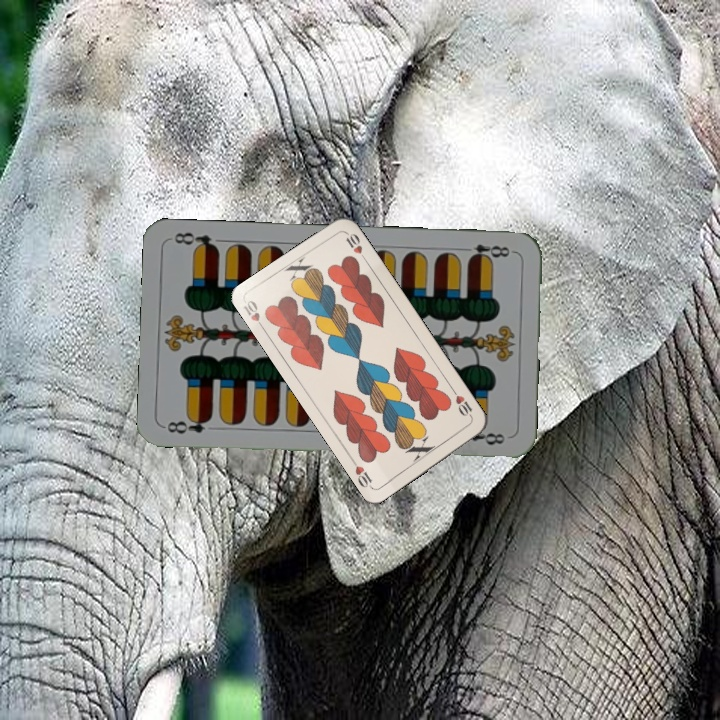E8: (458, 240, 517, 264), (163, 412, 215, 436)
H10: (239, 296, 268, 334), (448, 385, 476, 422)
